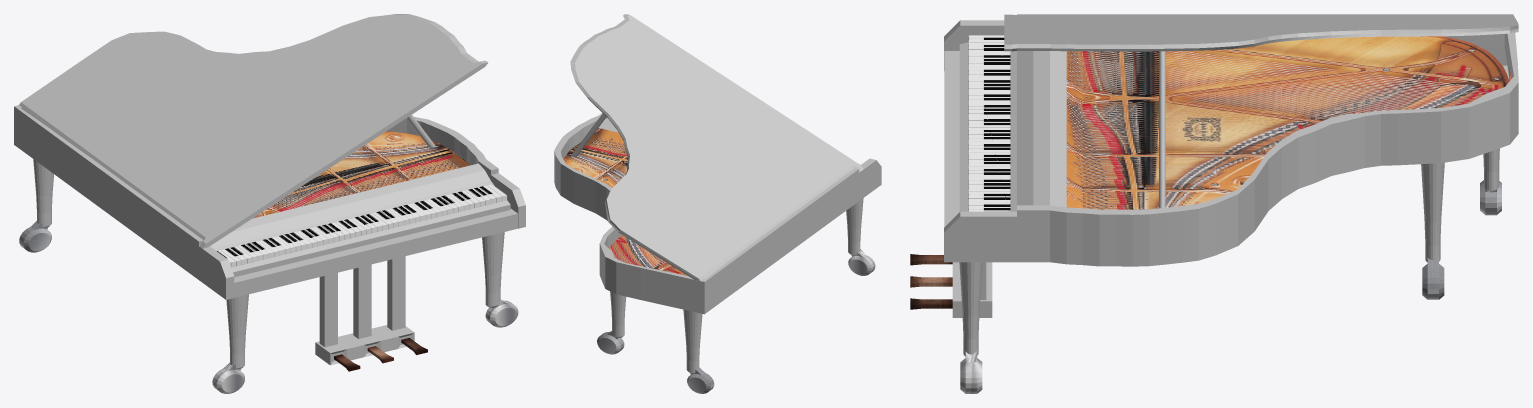
Rendered from piano_without_chair_,odel.fbx.
The picture shows the model from 3 angles, left to right: view 1: azimuth 30°, elevation 25°; view 2: azimuth 150°, elevation 25°; view 3: azimuth 270°, elevation 25°; orthographic projection. The views are drawn at different scales.
Visible parts, largest first — view 1: polySurface1; view 2: polySurface1; view 3: polySurface1.
Boxes of the visible parts, x1=… form: polySurface1: x1=14, y1=14, x2=525, y2=393; polySurface1: x1=554, y1=14, x2=881, y2=393; polySurface1: x1=910, y1=14, x2=1518, y2=393.
Size of the model in its own units: 0.2864 by 0.2273 by 0.3655.
